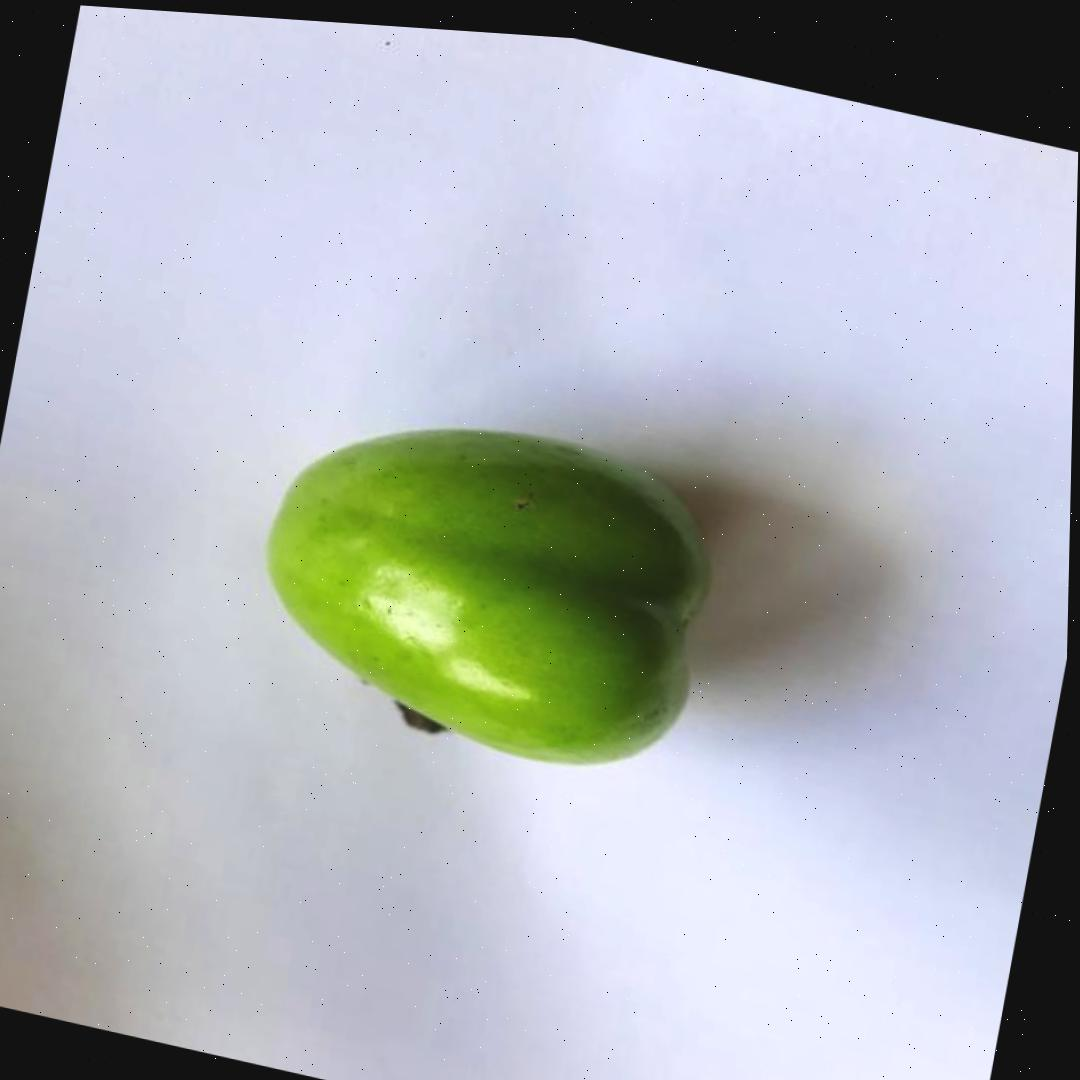mentah: (236, 375, 730, 795)
